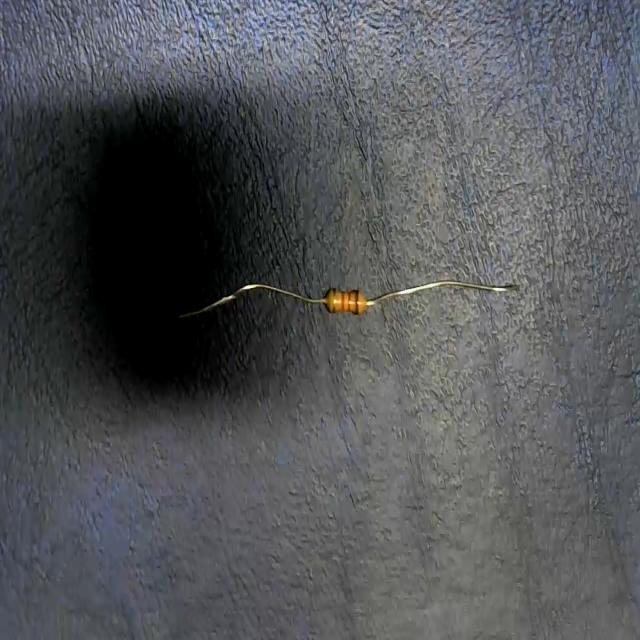resistor: (180, 275, 518, 320)
